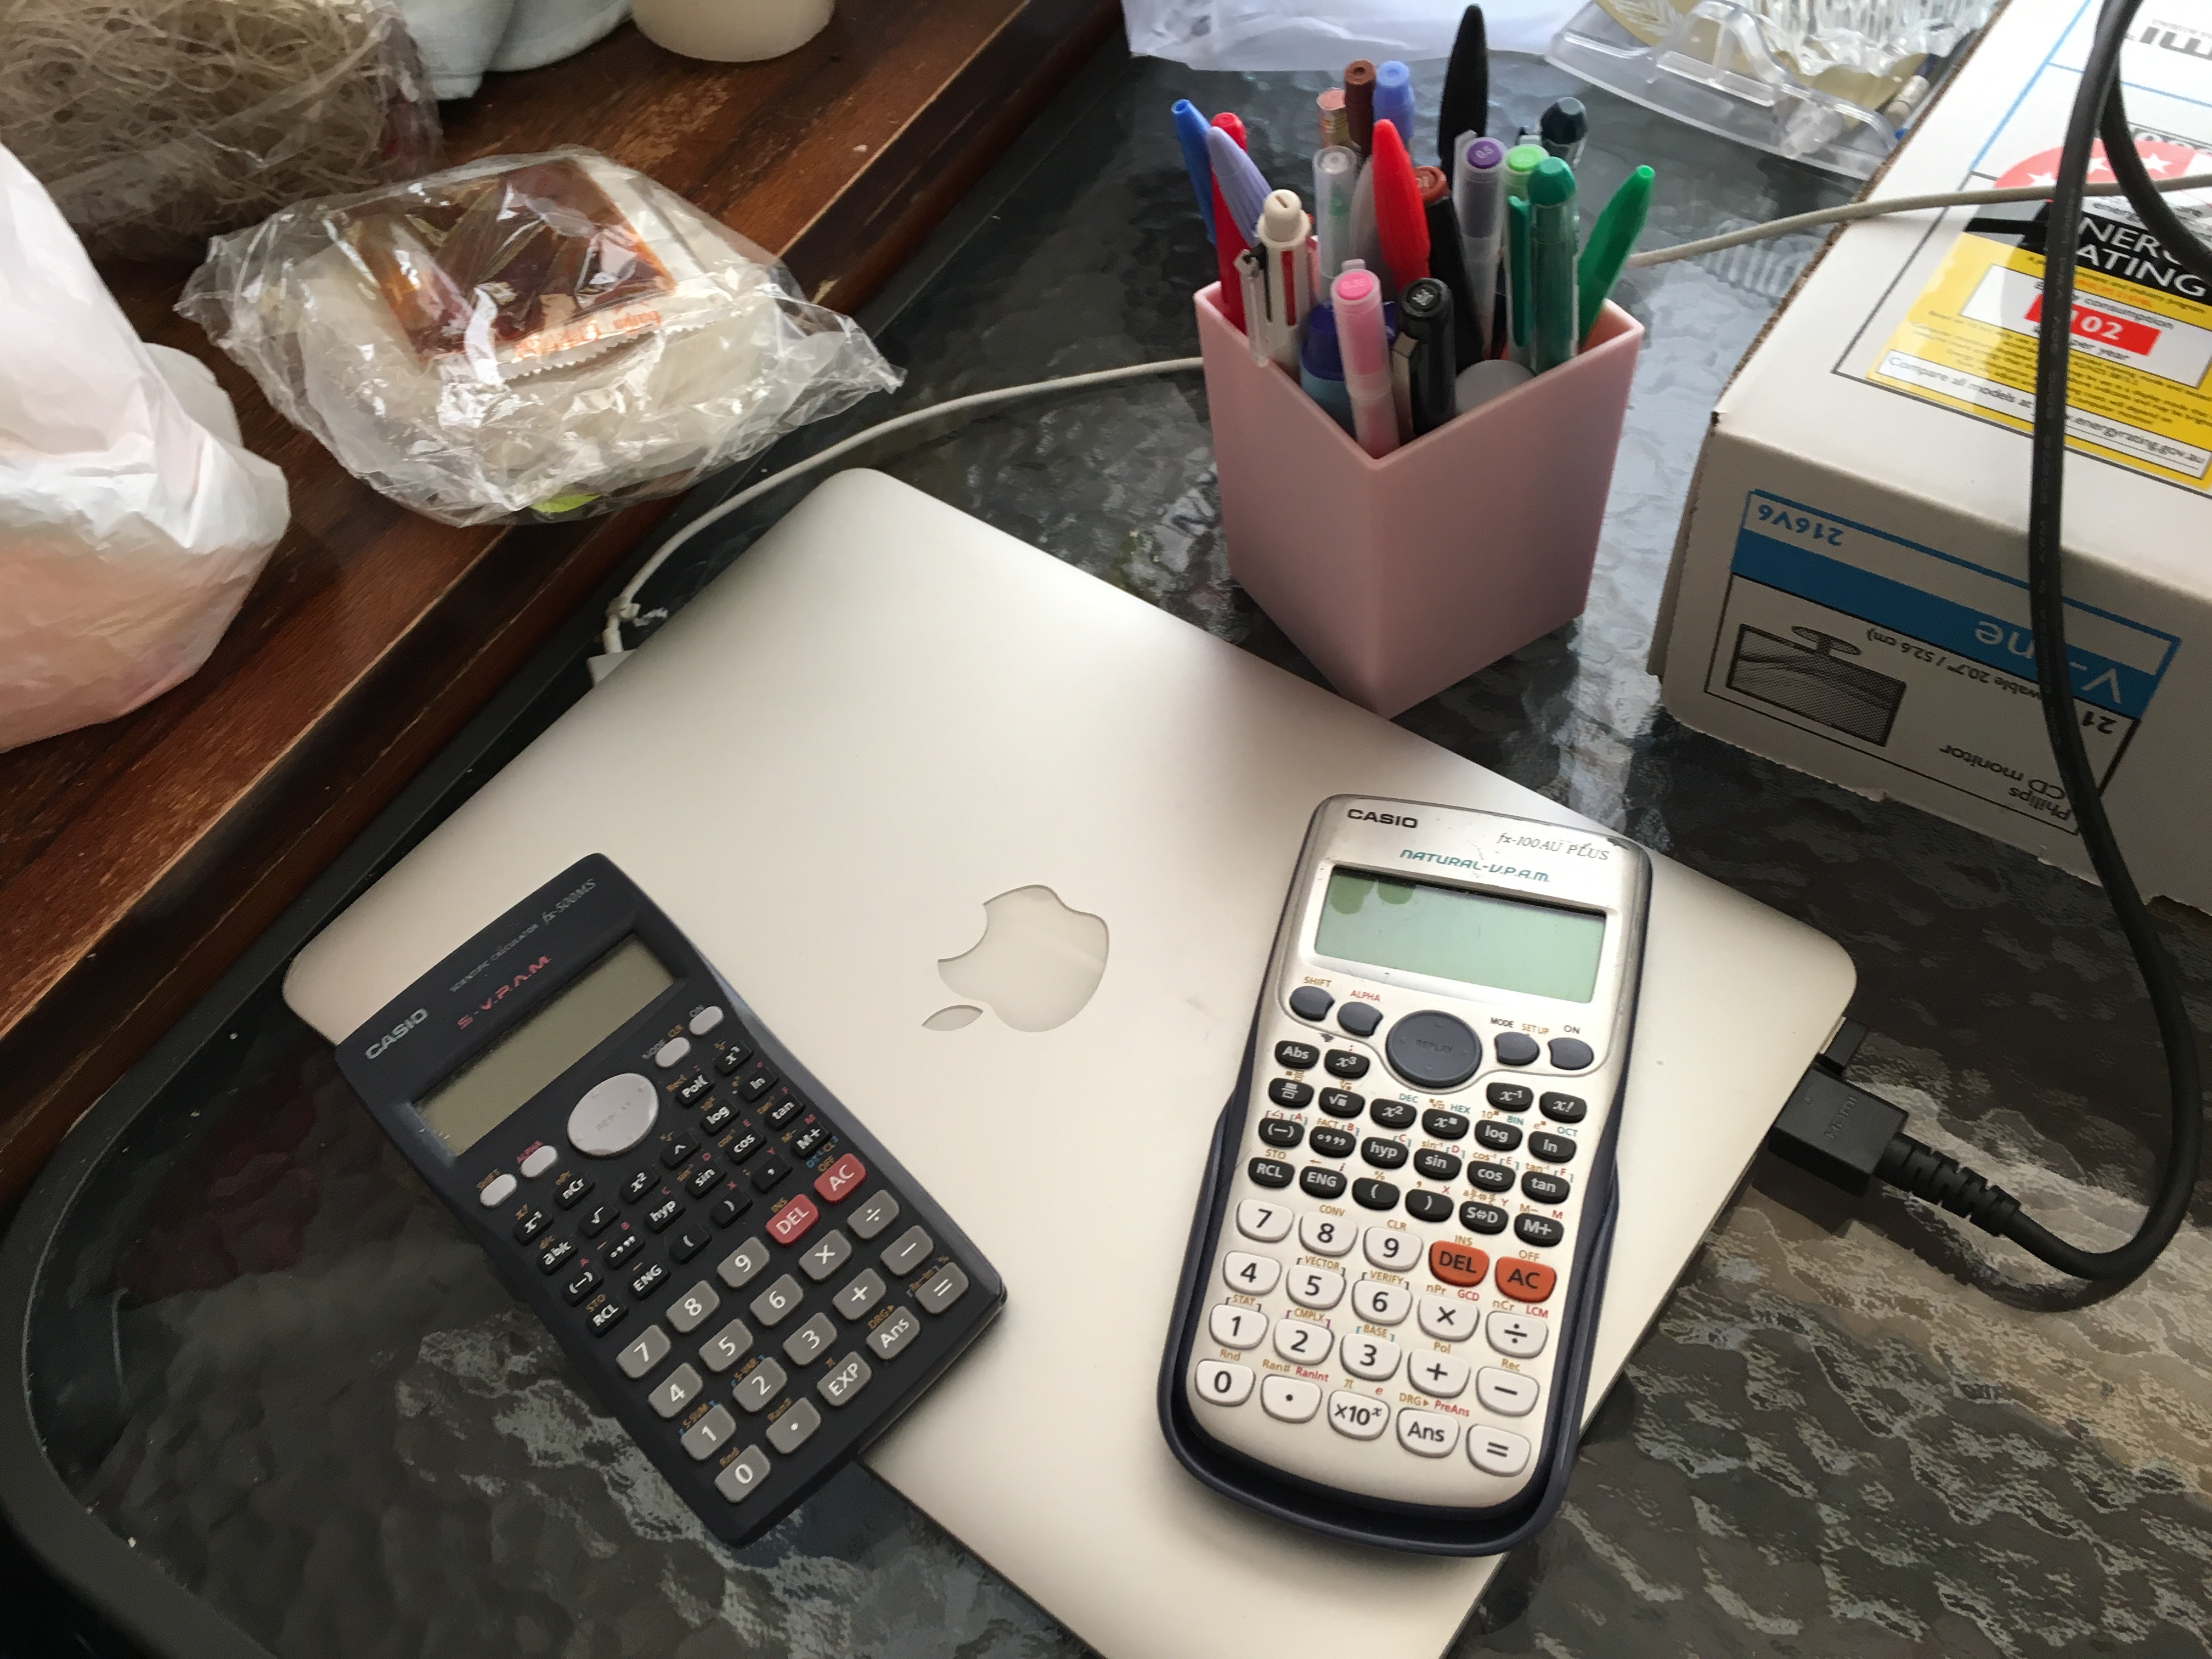Calculator: (320, 845, 1019, 1565), (1148, 775, 1665, 1554)
